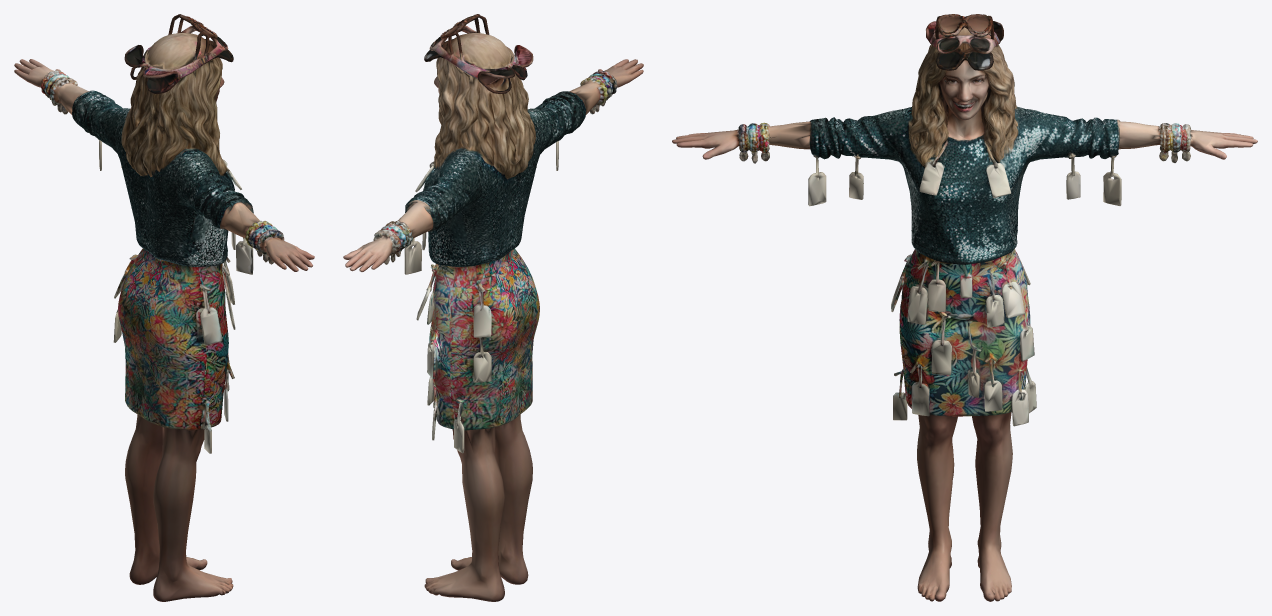
The model's file is the-shopaholic.glb.
The picture shows the model from 3 angles, left to right: view 1: azimuth 30°, elevation 25°; view 2: azimuth 150°, elevation 25°; view 3: azimuth 270°, elevation 25°; orthographic projection. The views are drawn at different scales.
Visible parts, largest first — view 1: 10-shopaholic; view 2: 10-shopaholic; view 3: 10-shopaholic.
Part boxes in pixels (<box>): 10-shopaholic: <box>14,14,314,601</box>; 10-shopaholic: <box>343,14,643,601</box>; 10-shopaholic: <box>672,14,1257,601</box>.
Bounding box in the file's own units: 0.1731 × 0.9785 × 0.9025.
1 material, 1 textured.
